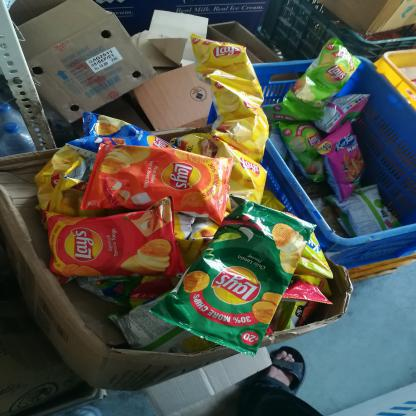chile_limon: (206, 200, 300, 366)
classicsalted: (191, 33, 277, 97), (203, 74, 270, 153), (205, 141, 272, 206), (27, 140, 85, 208)
cream_and_onion: (295, 41, 351, 117), (272, 108, 325, 182), (330, 189, 405, 230)
hot_and_sweet: (78, 141, 226, 224)
indian_magic_masala: (68, 112, 174, 150)
tangy_tomato: (37, 204, 185, 278)
